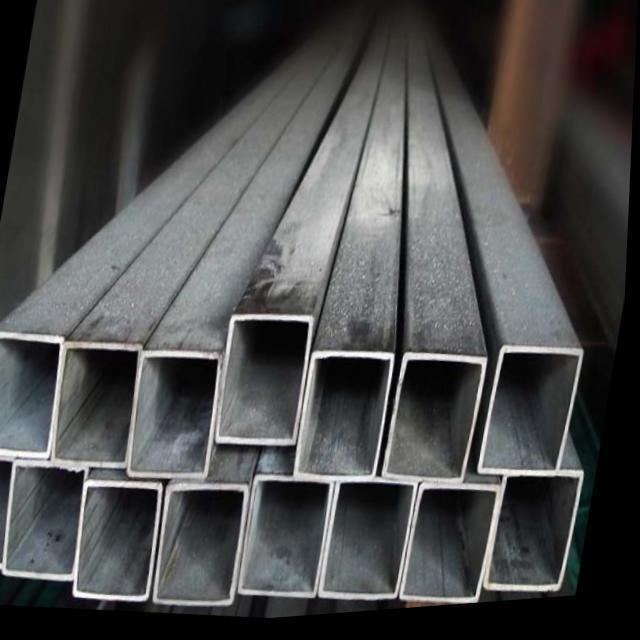pipe: (296, 356, 399, 490), (217, 317, 316, 450), (129, 354, 230, 480), (389, 362, 484, 491), (157, 486, 255, 610), (488, 354, 580, 486), (49, 350, 144, 475), (242, 482, 334, 608), (325, 487, 417, 609), (409, 491, 498, 615), (491, 484, 582, 604), (1, 464, 89, 585), (82, 487, 163, 600), (0, 335, 65, 463), (0, 461, 16, 566)
